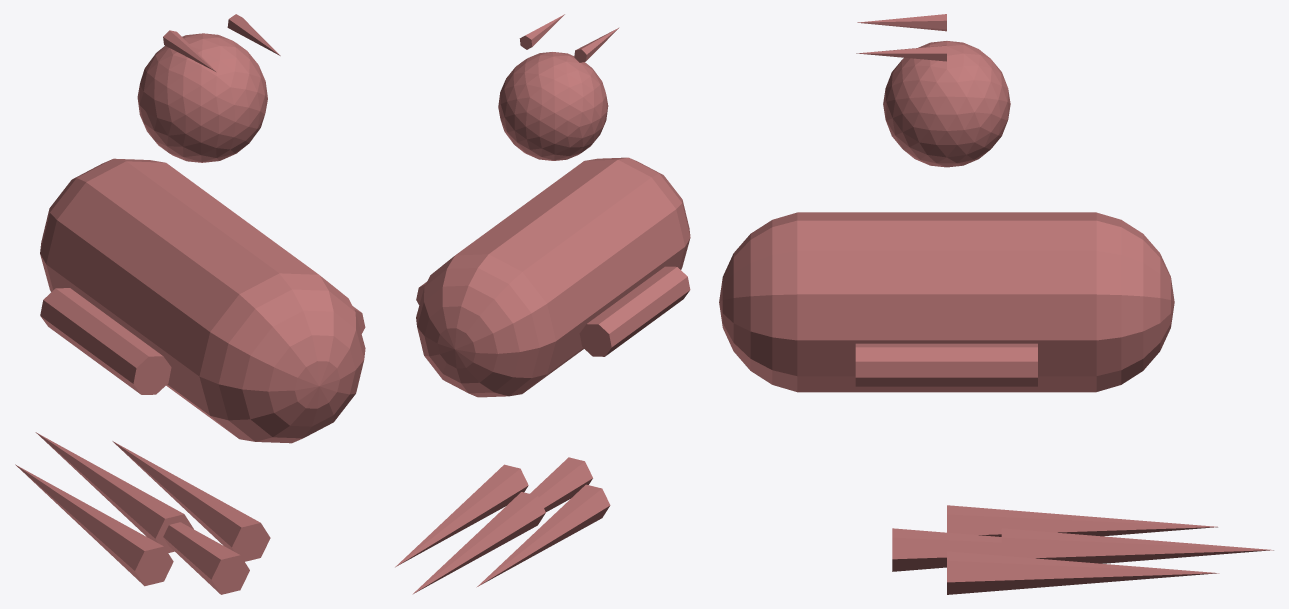
File: Harbinger_B_Boss.glb
3 renders of one model, left to right at view 1: azimuth 30°, elevation 25°; view 2: azimuth 150°, elevation 25°; view 3: azimuth 270°, elevation 25°, orthographic. The views are drawn at different scales.
Parts seen in each view (by area): view 1: world; view 2: world; view 3: world.
Boxes of the visible parts, x1,y1,x2,y2 form: world: (15,14,365,594); world: (395,14,690,594); world: (719,14,1273,594).
Size of the model in its own units: 1.77 by 4 by 3.75.
